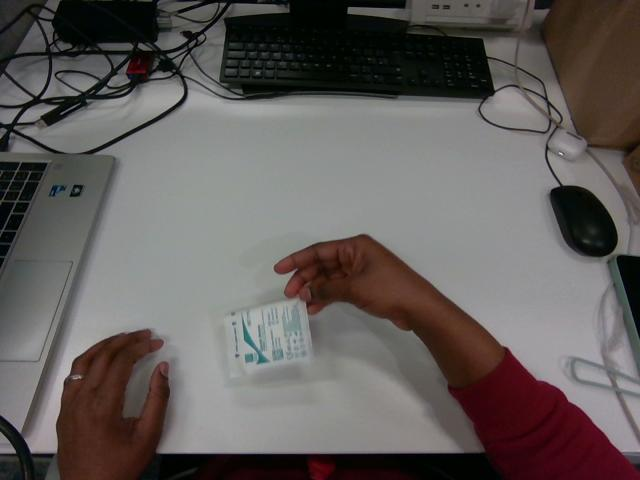gauze: (225, 298, 312, 377)
